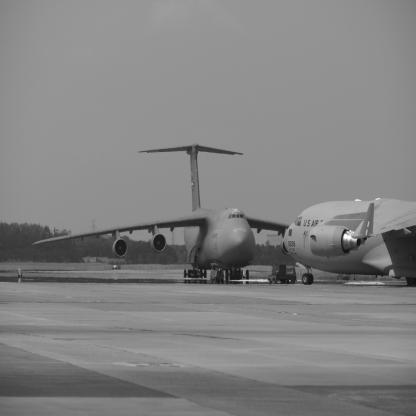C17: (285, 198, 416, 286)
C5: (33, 144, 291, 281)
